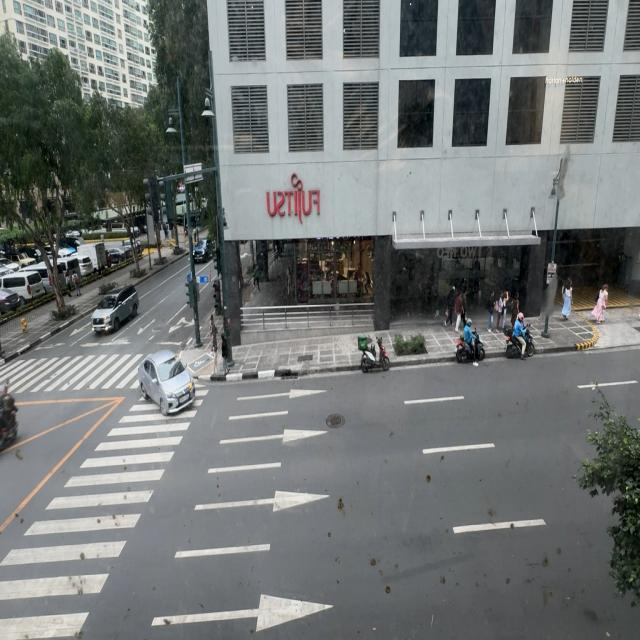waiting: (0, 314, 3, 358)
